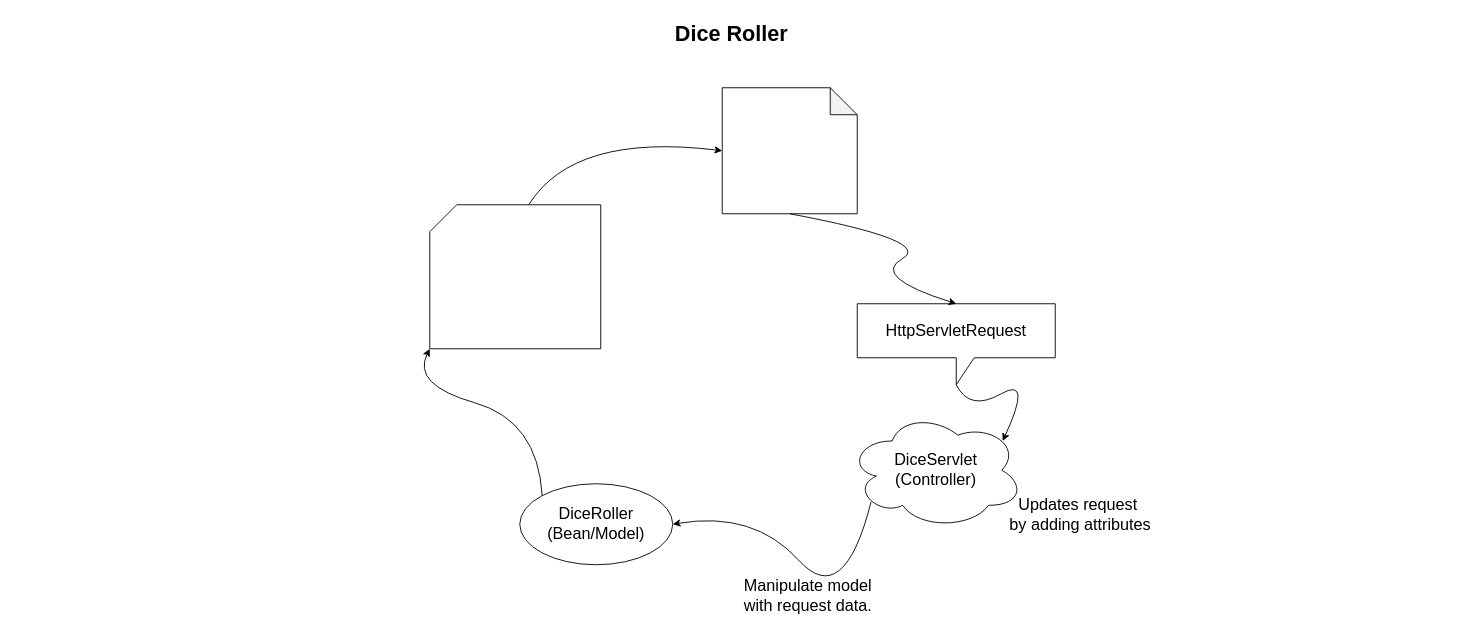
The diagram is 1462 pixels wide and 634 high, and some of its shapes have lost their labels. The shapes that lost their labels are listed below. From the top down, each one's box as (x1, y1, x2, y2) in pixels, then its label:
(721, 87, 857, 214): Browser
(429, 204, 601, 349): NumberRolledBeanView
